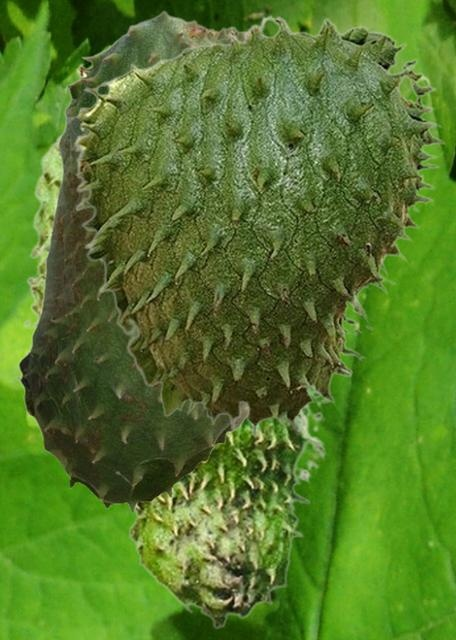guyabano: (74, 14, 445, 438), (22, 134, 330, 629), (15, 9, 267, 512)
